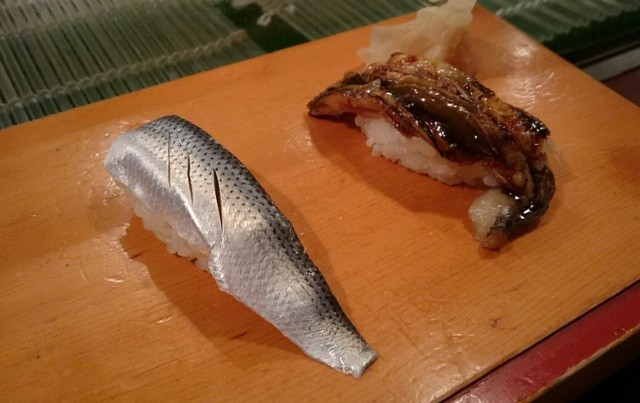spotted-shad: (101, 110, 380, 382)
